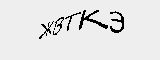В: (51, 15, 64, 37)
Ж: (37, 17, 54, 39)
К: (78, 8, 108, 32)
Т: (63, 10, 80, 31)
Э: (108, 9, 129, 34)
